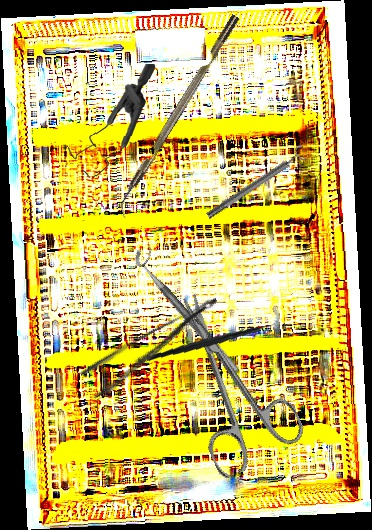Chopper: (110, 14, 250, 220), (146, 303, 281, 373)
Dressing Forceps: (77, 294, 232, 402)
Fixation Ring: (129, 241, 250, 376), (202, 143, 311, 224)
Iris Scissors: (148, 275, 310, 481)
Speculum: (66, 61, 156, 181)
